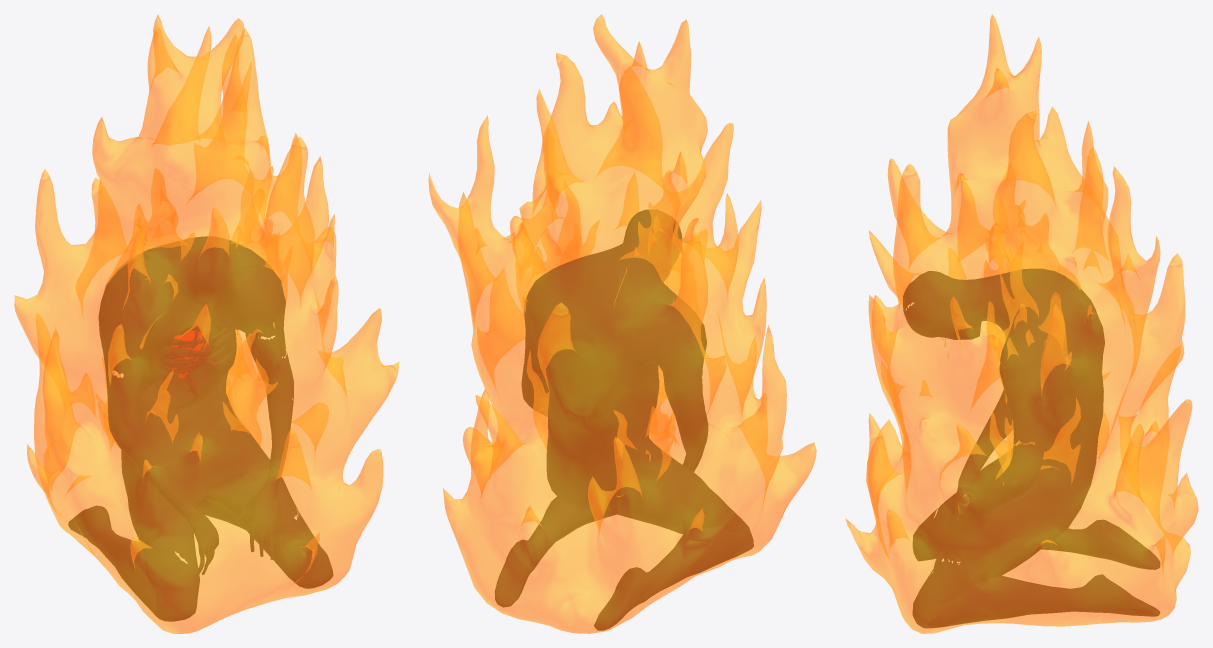
Rendered from burning_heartache.glb.
The picture shows the model from 3 angles, left to right: view 1: azimuth 30°, elevation 25°; view 2: azimuth 150°, elevation 25°; view 3: azimuth 270°, elevation 25°; orthographic projection. The views are drawn at different scales.
Visible parts, largest first — view 1: Fire1, Thorn1; view 2: Fire1, Thorn1; view 3: Fire1, Thorn1.
Part boxes in pixels (x1=…): Fire1: x1=14, y1=15, x2=399, y2=633; Thorn1: x1=68, y1=236, x2=332, y2=621; Fire1: x1=428, y1=14, x2=816, y2=633; Thorn1: x1=495, y1=210, x2=753, y2=630; Fire1: x1=845, y1=14, x2=1198, y2=633; Thorn1: x1=903, y1=269, x2=1159, y2=627.
Bounding box in the file's own units: 1.47 × 2.39 × 1.37.
